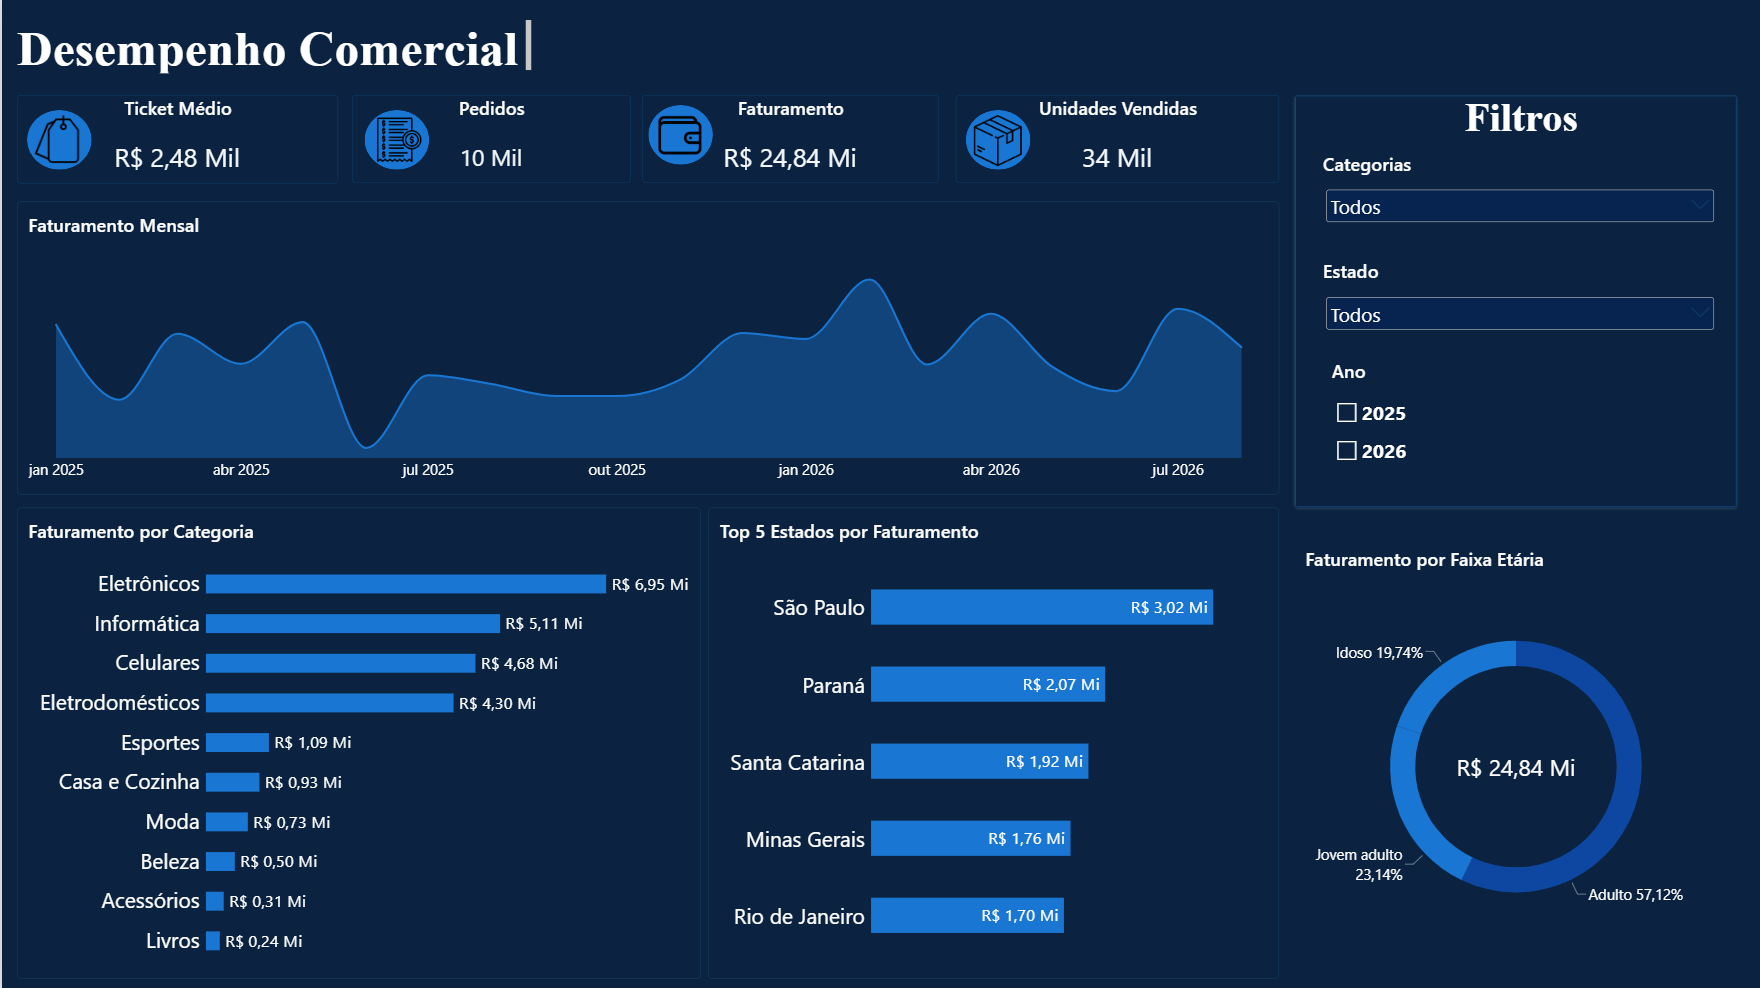

The page's visual inventory and layout, read from the dashboard file:
{"tool":"powerbi","page":{"name":"Página 1","canvas":[2560,1440],"ordinal":0},"visuals":[{"type":"shape","box":[1879.6,137.5,644.2,600.8],"z":0},{"type":"cardVisual","title":"Faturamento","fields":{"Data":["public itens_pedido.Faturamento"]},"box":[931.4,137.5,431.9,127.9],"z":1000},{"type":"cardVisual","title":" Pedidos","fields":{"Data":["public itens_pedido.qtd_pedidos"]},"box":[509.5,137.5,405.4,127.9],"z":2000},{"type":"cardVisual","title":"Unidades Vendidas","fields":{"Data":["public itens_pedido.unidades_vendidas"]},"box":[1387.4,137.5,470.5,127.9],"z":3000},{"type":"cardVisual","title":"Ticket Médio","fields":{"Data":["public itens_pedido.ticket_medio"]},"box":[21.7,137.5,466.9,128.5],"z":4000},{"type":"barChart","title":"Faturamento por Categoria","fields":{"Category":["public categorias.nome"],"Y":["public itens_pedido.Faturamento"]},"box":[21.7,738.3,994.1,685.3],"z":5000},{"type":"lineChart","title":"Faturamento Mensal","fields":{"Category":["public pedidos.dt_pedido.Variation.Hierarquia de datas.Ano","public pedidos.dt_pedido.Variation.Hierarquia de datas.Mês"],"Y":["public itens_pedido.Faturamento"]},"box":[21.7,292,1836.2,427.1],"z":6000},{"type":"donutChart","title":"Faturamento por Faixa Etária","fields":{"Category":["public clientes.faixa_etaria"],"Y":["public itens_pedido.Faturamento"]},"box":[1879.6,779.4,644.2,620.1],"z":7000},{"type":"textbox","box":[21.7,29,748,77.2],"z":8000},{"type":"clusteredBarChart","title":"Top 5 Estados por Faturamento","fields":{"Category":["public localidades.Estado Mapa"],"Y":["public itens_pedido.Faturamento"]},"box":[1027.9,738.3,830,685.3],"z":9000},{"type":"slicer","title":"Categorias","fields":{"Values":["public categorias.nome"]},"box":[1906.2,205.1,605.6,132.7],"z":10000},{"type":"shape","box":[939.6,153.6,94.1,86.9],"z":11000},{"type":"image","box":[951.6,165.6,70,62.7],"z":12000},{"type":"shape","box":[1401.3,159.7,94.1,86.9],"z":13000},{"type":"shape","box":[526.4,159.3,94.1,86.9],"z":14000},{"type":"shape","box":[36.2,159.3,94.1,86.9],"z":15000},{"type":"image","box":[36.2,159.3,91.7,84.5],"z":16000},{"type":"image","box":[545.7,171.3,65.1,65.1],"z":17000},{"type":"image","box":[1400.1,167,96.5,74.8],"z":18000},{"type":"slicer","title":"Ano","fields":{"Values":["public pedidos.dt_pedido.Variation.Hierarquia de datas.Ano"]},"box":[1918.2,506.7,593.6,212.3],"z":19000},{"type":"textbox","box":[1896.5,137.5,627.3,79.6],"z":20000},{"type":"slicer","title":"Estado","fields":{"Values":["public localidades.Estado Mapa"]},"box":[1906.2,361.9,605.6,135.1],"z":21000}]}

Visuals, with their boxes in screenshot pixels (x1, y1, x2, y2), scaled from the page's 2560x1440 canvas onto the 1760x988 screenshot:
shape: [1292, 94, 1735, 507]
"Faturamento" cardVisual: [640, 94, 937, 182]
" Pedidos" cardVisual: [350, 94, 629, 182]
"Unidades Vendidas" cardVisual: [954, 94, 1277, 182]
"Ticket Médio" cardVisual: [15, 94, 336, 183]
"Faturamento por Categoria" barChart: [15, 507, 698, 977]
"Faturamento Mensal" lineChart: [15, 200, 1277, 493]
"Faturamento por Faixa Etária" donutChart: [1292, 535, 1735, 960]
textbox: [15, 20, 529, 73]
"Top 5 Estados por Faturamento" clusteredBarChart: [707, 507, 1277, 977]
"Categorias" slicer: [1311, 141, 1727, 232]
shape: [646, 105, 711, 165]
image: [654, 114, 702, 157]
shape: [963, 110, 1028, 169]
shape: [362, 109, 427, 169]
shape: [25, 109, 90, 169]
image: [25, 109, 88, 167]
image: [375, 118, 420, 162]
image: [963, 115, 1029, 166]
"Ano" slicer: [1319, 348, 1727, 493]
textbox: [1304, 94, 1735, 149]
"Estado" slicer: [1311, 248, 1727, 341]
